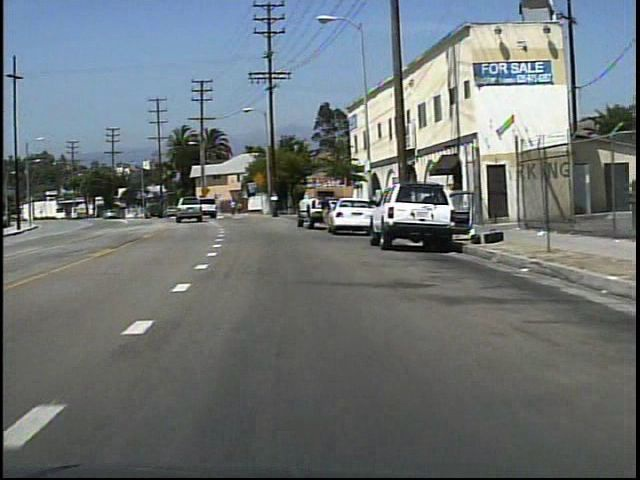person: (317, 190, 336, 235), (230, 198, 240, 219), (237, 200, 245, 217)
